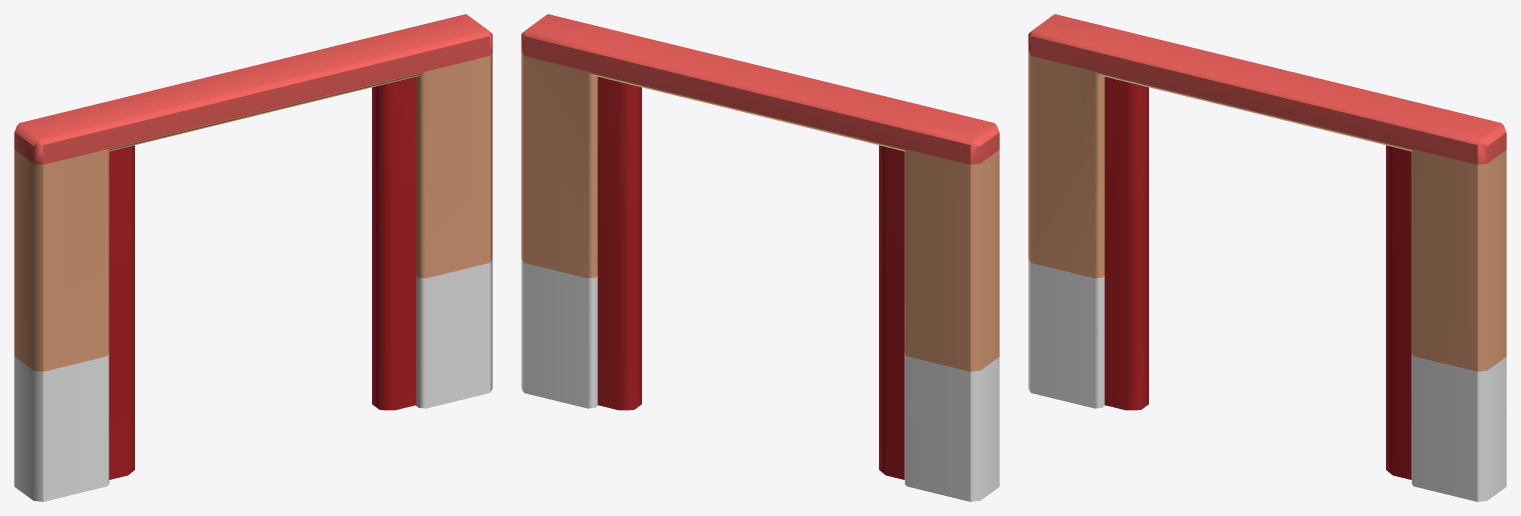
File: Decor_wall_door.fbx
3 views of the same model, side by side, from view 1: azimuth 30°, elevation 25°; view 2: azimuth 150°, elevation 25°; view 3: azimuth 330°, elevation 25° (orthographic).
Parts seen in each view (by area): view 1: Decor_wall_door; view 2: Decor_wall_door; view 3: Decor_wall_door.
Boxes of the visible parts, left/top/right/bottom form: Decor_wall_door: left=14, top=14, right=492, bottom=501; Decor_wall_door: left=521, top=14, right=999, bottom=501; Decor_wall_door: left=1028, top=14, right=1506, bottom=501.
Bounding box in the file's own units: 527 × 397 × 52.55.
